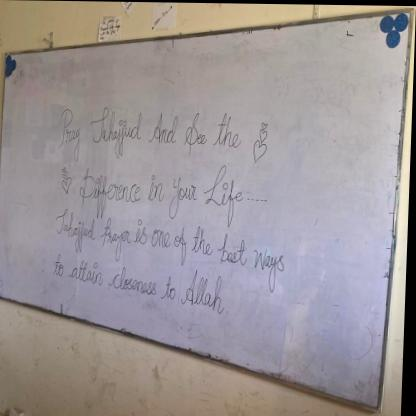Handwritten text: (47, 200, 302, 283), (45, 239, 239, 324), (51, 104, 249, 161), (74, 161, 250, 223)
